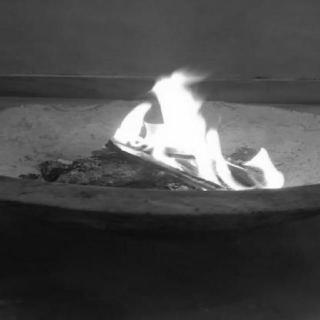Fire: (114, 63, 292, 197)
